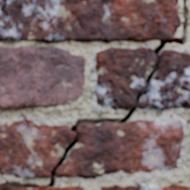brick: (0, 0, 181, 42), (0, 46, 84, 109), (101, 184, 189, 189), (0, 186, 82, 189), (0, 0, 3, 5)
broken_brick: (56, 119, 184, 178), (0, 116, 74, 178), (95, 46, 155, 110), (139, 49, 189, 109)
crack: (0, 0, 189, 188), (0, 0, 10, 24), (43, 0, 51, 21)
